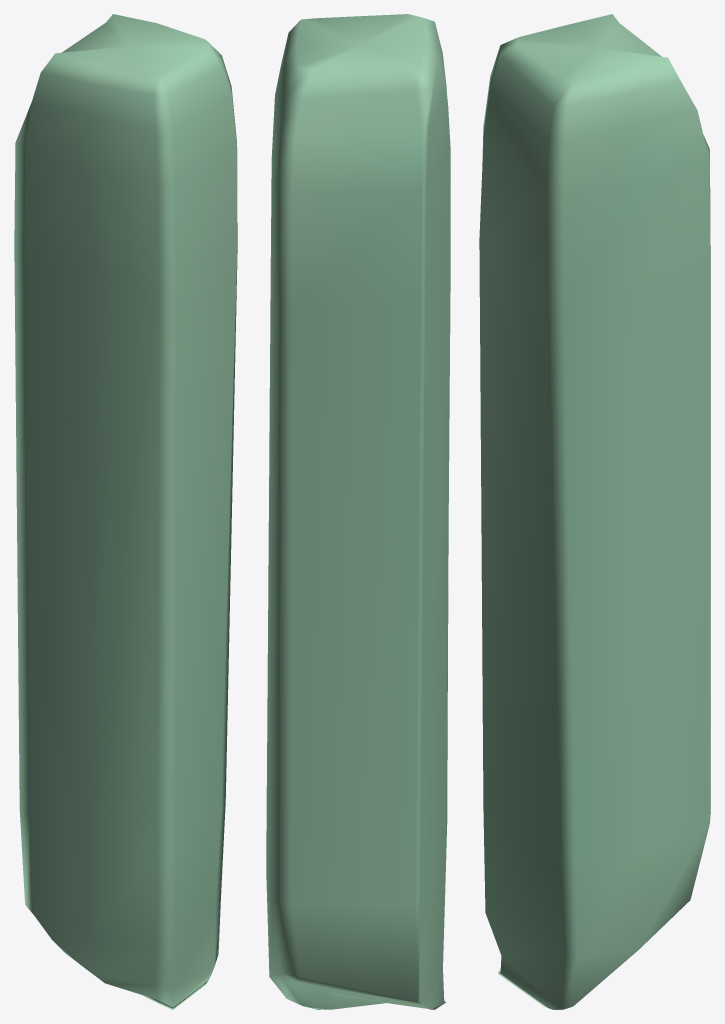
Rendered from SM_GateStoop_B.glb.
3 renders of one model, left to right at view 1: azimuth 30°, elevation 25°; view 2: azimuth 150°, elevation 25°; view 3: azimuth 270°, elevation 25°, orthographic. The views are drawn at different scales.
Parts seen in each view (by area): view 1: SM_GateStoop_B; view 2: SM_GateStoop_B; view 3: SM_GateStoop_B.
Boxes of the visible parts, <box> form: SM_GateStoop_B: <box>14,14,237,1009</box>; SM_GateStoop_B: <box>266,14,450,1009</box>; SM_GateStoop_B: <box>479,14,710,1009</box>.
Size of the model in its own units: 0.36 by 1.8 by 0.4024.
